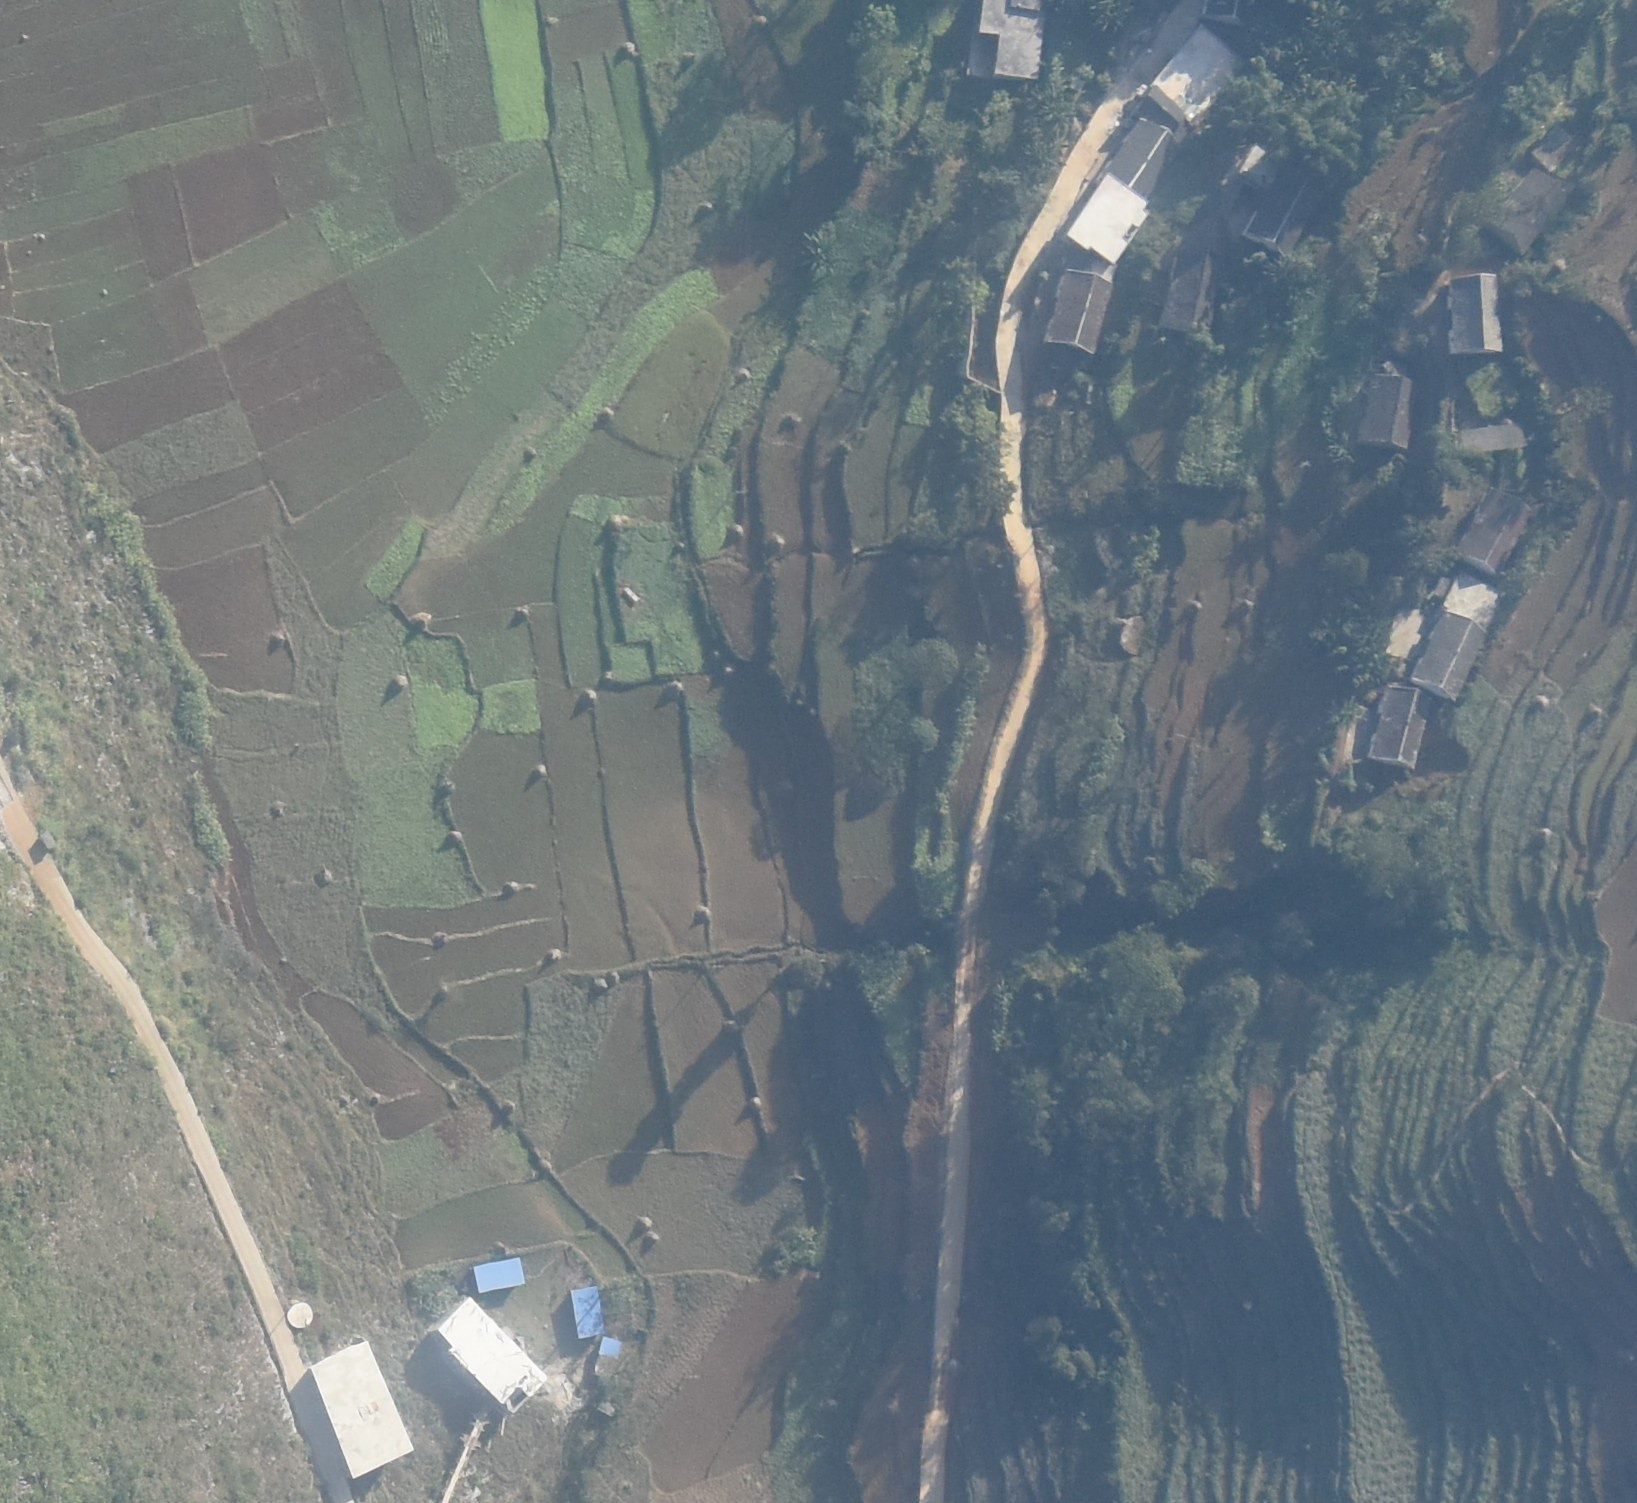building: (308, 1340, 414, 1479), (437, 1297, 547, 1412), (1151, 23, 1247, 130), (1244, 169, 1334, 256), (1065, 173, 1151, 263), (1485, 165, 1567, 259), (1457, 487, 1534, 582), (1409, 613, 1487, 704), (1044, 264, 1114, 355), (970, 4, 1050, 81), (1110, 118, 1179, 199), (1369, 687, 1432, 770), (1162, 251, 1223, 333), (1355, 372, 1419, 450), (1448, 274, 1504, 352), (1533, 124, 1584, 181), (39, 831, 58, 850)
prefabricated-house: (472, 1258, 525, 1295), (570, 1286, 605, 1340), (595, 1336, 622, 1374)
well: (287, 1303, 314, 1329)
